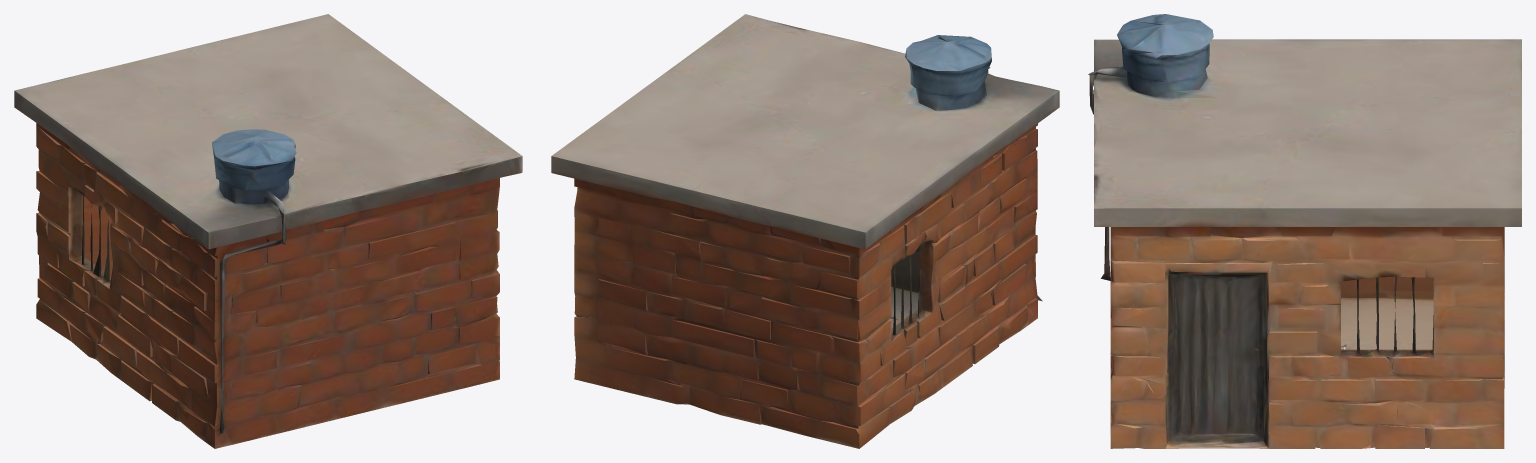
File: favela_casa2.glb
3 renders of one model, left to right at view 1: azimuth 30°, elevation 25°; view 2: azimuth 150°, elevation 25°; view 3: azimuth 270°, elevation 25°, orthographic. The views are drawn at different scales.
Visible parts, largest first — view 1: tripo_node_976b3f51-b95c-4ee6-b09c-efb5898f2aef; view 2: tripo_node_976b3f51-b95c-4ee6-b09c-efb5898f2aef; view 3: tripo_node_976b3f51-b95c-4ee6-b09c-efb5898f2aef.
Boxes of the visible parts, x1,y1,x2,y2 form: tripo_node_976b3f51-b95c-4ee6-b09c-efb5898f2aef: [14, 14, 522, 448]; tripo_node_976b3f51-b95c-4ee6-b09c-efb5898f2aef: [551, 14, 1059, 448]; tripo_node_976b3f51-b95c-4ee6-b09c-efb5898f2aef: [1088, 14, 1521, 448].
Size of the model in its own units: 0.9183 by 0.7759 by 0.9965.
1 material, 1 textured.
